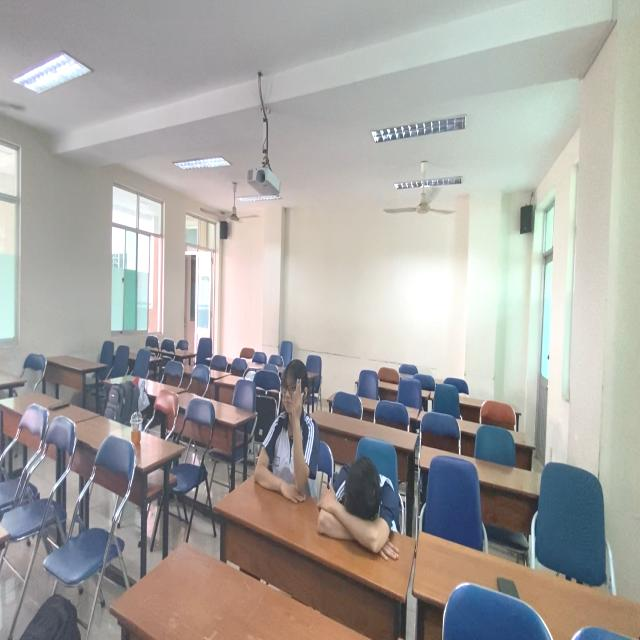raise_hand: (256, 358, 318, 515)
sleep: (319, 451, 413, 567)
